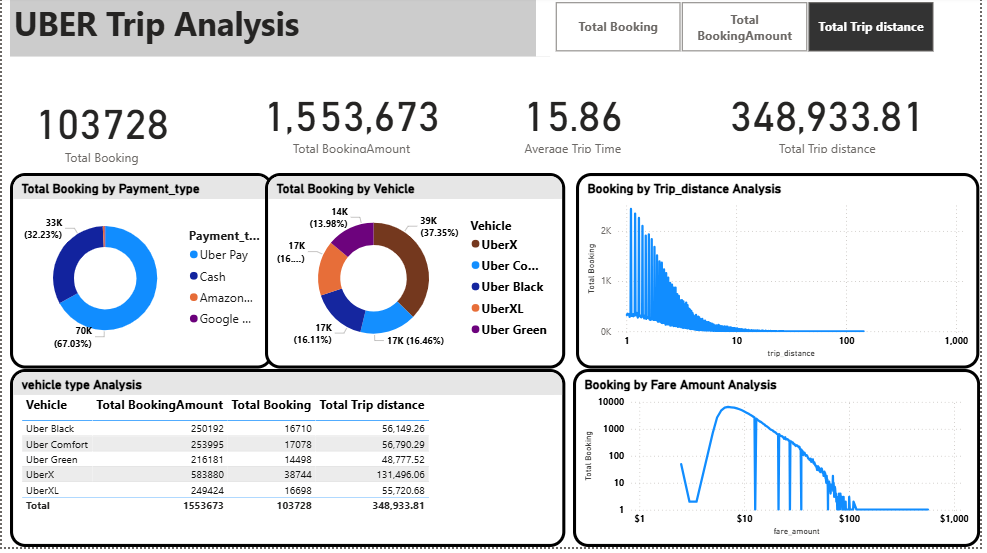

The dashboard page shown, as its layout file describes it:
{"tool":"powerbi","page":{"name":"Page 1","canvas":[1280,720],"ordinal":0},"visuals":[{"type":"textbox","box":[10.1,0,707,77.8],"z":0},{"type":"card","fields":{"Values":["Trip Details.Total Booking"]},"box":[10.1,110.9,240.5,119.5],"z":1000},{"type":"card","fields":{"Values":["Trip Details.Total BookingAmount"]},"box":[276.5,110.9,362.9,97.9],"z":2000},{"type":"card","fields":{"Values":["Trip Details.Average Trip Time"]},"box":[597.6,110.9,298.1,97.9],"z":3000},{"type":"card","fields":{"Values":["Trip Details.Total Trip distance"]},"box":[917.3,110.9,325.4,97.9],"z":4000},{"type":"slicer","fields":{"Values":["Parameter 2.Parameter"]},"box":[698.4,0,544.3,77.8],"z":5000},{"type":"donutChart","fields":{"Category":["Trip Details.Payment_type"],"Y":["Trip Details.Total Booking"]},"box":[10.1,230.4,344.2,256.3],"z":6000},{"type":"donutChart","fields":{"Category":["Trip Details.Vehicle"],"Y":["Trip Details.Total Booking"]},"box":[344.2,230.4,393.1,256.3],"z":7000},{"type":"tableEx","title":"vehicle type Analysis","fields":{"Values":["Trip Details.Vehicle","Trip Details.Total BookingAmount","Trip Details.Total Booking","Trip Details.Total Trip distance"]},"box":[10.1,486.7,727.2,233.3],"z":8000},{"type":"lineChart","title":"Booking by Fare Amount Analysis","fields":{"Category":["Trip Details.fare_amount"],"Y":["Trip Details.Total Booking"]},"box":[747.4,486.7,532.8,233.3],"z":9000},{"type":"lineChart","title":" Booking by Trip_distance Analysis","fields":{"Category":["Trip Details.trip_distance"],"Y":["Trip Details.Total Booking"]},"box":[751.7,230.4,528.5,256.3],"z":10000}]}

Visuals, with their boxes in screenshot pixels (x1, y1, x2, y2), scaled from the page's 1280x720 canvas onto the 987x553 screenshot:
textbox: <region>8, 0, 553, 60</region>
card - Trip Details.Total Booking: <region>8, 85, 193, 177</region>
card - Trip Details.Total BookingAmount: <region>213, 85, 493, 160</region>
card - Trip Details.Average Trip Time: <region>461, 85, 691, 160</region>
card - Trip Details.Total Trip distance: <region>707, 85, 958, 160</region>
slicer - Parameter 2.Parameter: <region>539, 0, 958, 60</region>
donutChart - Trip Details.Payment_type x Trip Details.Total Booking: <region>8, 177, 273, 374</region>
donutChart - Trip Details.Vehicle x Trip Details.Total Booking: <region>265, 177, 569, 374</region>
"vehicle type Analysis" tableEx: <region>8, 374, 569, 552</region>
"Booking by Fare Amount Analysis" lineChart: <region>576, 374, 986, 552</region>
" Booking by Trip_distance Analysis" lineChart: <region>580, 177, 986, 374</region>
